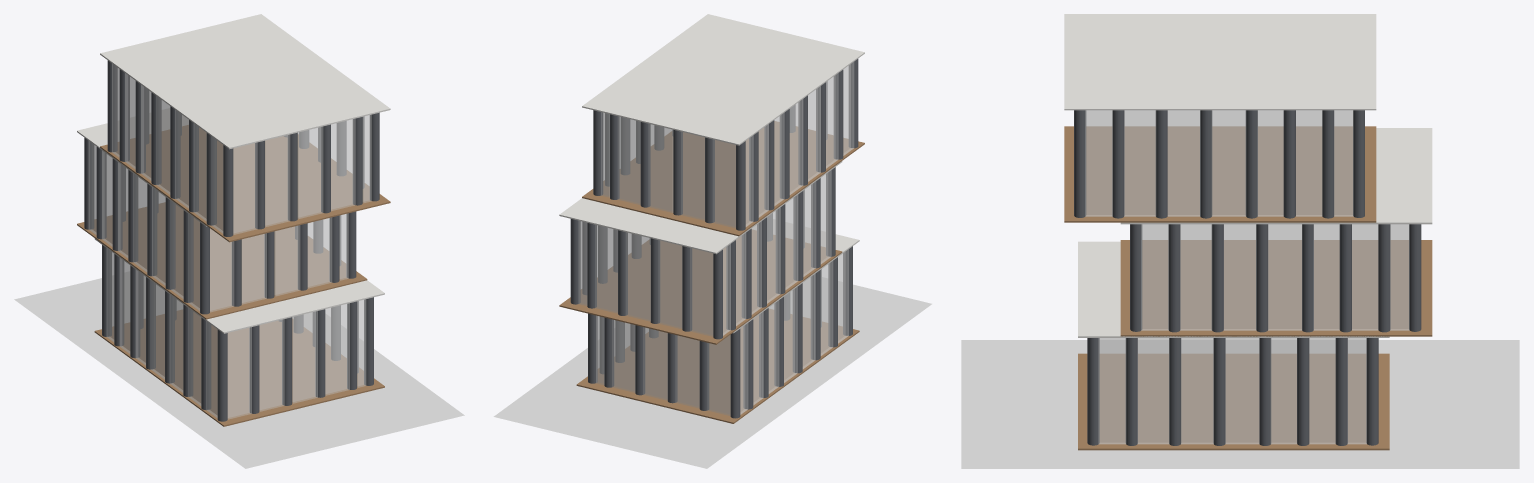
Rendered from house.glb.
3 views of the same model, side by side, from view 1: azimuth 30°, elevation 25°; view 2: azimuth 150°, elevation 25°; view 3: azimuth 270°, elevation 25° (orthographic). The views are drawn at different scales.
Parts seen in each view (by area): view 1: Floor_1_Ceiling.004, Plane, Floor_1_Floor, Floor_1_Floor.004, Floor_1_Floor.002, Glass_1.004, Glass_1.019, Glass_1.005, Glass_1.023, Glass_1.011, Glass_1.012, Glass_1.016 (+48 smaller); view 2: Floor_1_Ceiling.004, Plane, Floor_1_Floor.002, Floor_1_Floor.004, Floor_1_Floor, Glass_1.017, Glass_1.008, Glass_1.021, Glass_1.013, Glass_1.001, Glass_1.007, Glass_1.020 (+48 smaller); view 3: Plane, Floor_1_Ceiling.004, Floor_1_Floor.004, Floor_1_Floor, Glass_1.003, Floor_1_Floor.002, Glass_1.009, Glass_1.018, Glass_1.022, Glass_1.014, Glass_1.006, Floor_1_Ceiling.002 (+25 smaller).
Part boxes in pixels (<box>): Floor_1_Ceiling.004: <box>100,14,390,149</box>; Plane: <box>14,271,464,468</box>; Floor_1_Floor: <box>94,310,384,426</box>; Floor_1_Floor.004: <box>100,125,390,242</box>; Floor_1_Floor.002: <box>77,202,367,319</box>; Glass_1.004: <box>228,299,365,418</box>; Glass_1.019: <box>233,115,371,234</box>; Glass_1.005: <box>228,299,365,418</box>; Glass_1.023: <box>233,115,371,234</box>; Glass_1.011: <box>210,213,348,311</box>; Glass_1.012: <box>89,141,199,310</box>; Glass_1.016: <box>89,141,199,310</box>; Floor_1_Ceiling.004: <box>582,14,864,145</box>; Plane: <box>493,277,931,468</box>; Floor_1_Floor.002: <box>559,230,842,344</box>; Floor_1_Floor.004: <box>582,121,864,236</box>; Floor_1_Floor: <box>576,309,859,423</box>; Glass_1.017: <box>601,112,735,227</box>; Glass_1.008: <box>579,221,712,336</box>; Glass_1.021: <box>601,113,735,227</box>; Glass_1.013: <box>579,221,712,336</box>; Glass_1.001: <box>596,316,730,415</box>; Glass_1.007: <box>596,316,730,415</box>; Glass_1.020: <box>746,62,853,226</box>; Plane: <box>961,340,1519,468</box>; Floor_1_Ceiling.004: <box>1064,14,1376,110</box>; Floor_1_Floor.004: <box>1064,126,1376,222</box>; Floor_1_Floor: <box>1078,353,1389,450</box>; Glass_1.003: <box>1098,338,1366,443</box>; Floor_1_Floor.002: <box>1120,240,1432,336</box>; Glass_1.009: <box>1141,224,1409,330</box>; Glass_1.018: <box>1085,110,1353,216</box>; Glass_1.022: <box>1085,110,1352,216</box>; Glass_1.014: <box>1141,224,1408,330</box>; Glass_1.006: <box>1099,338,1366,443</box>; Floor_1_Ceiling.002: <box>1120,128,1432,224</box>.
Size of the model in its own units: 9.62 by 11.87 by 17.59.
